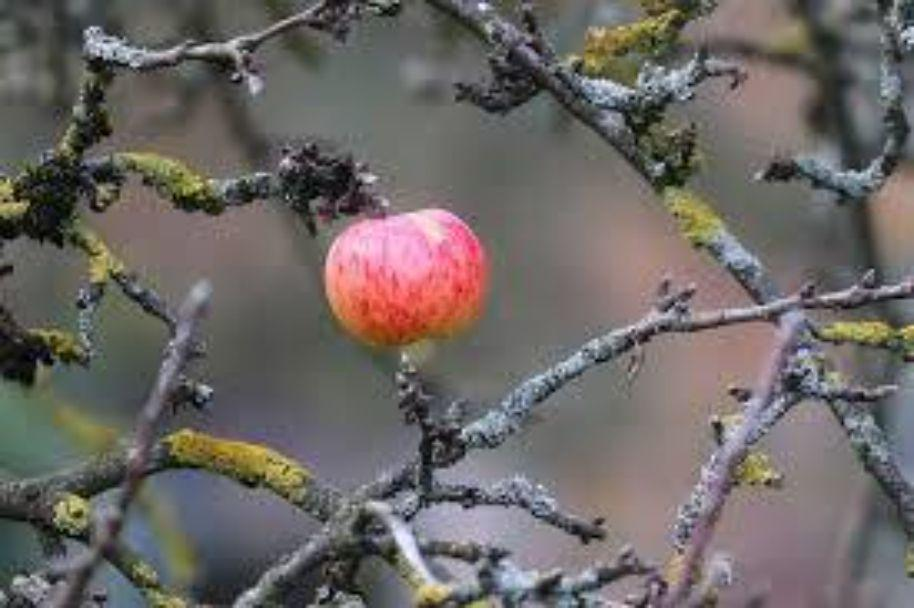SCAB: (315, 198, 498, 352)
